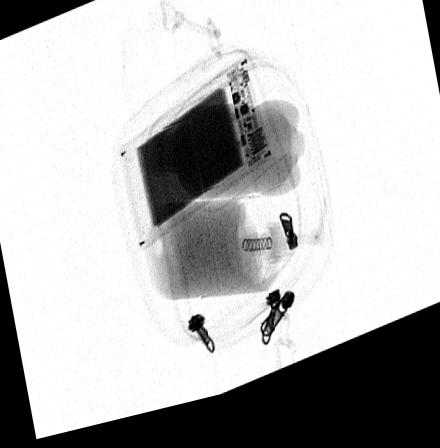Powerbank: (116, 65, 272, 259)
